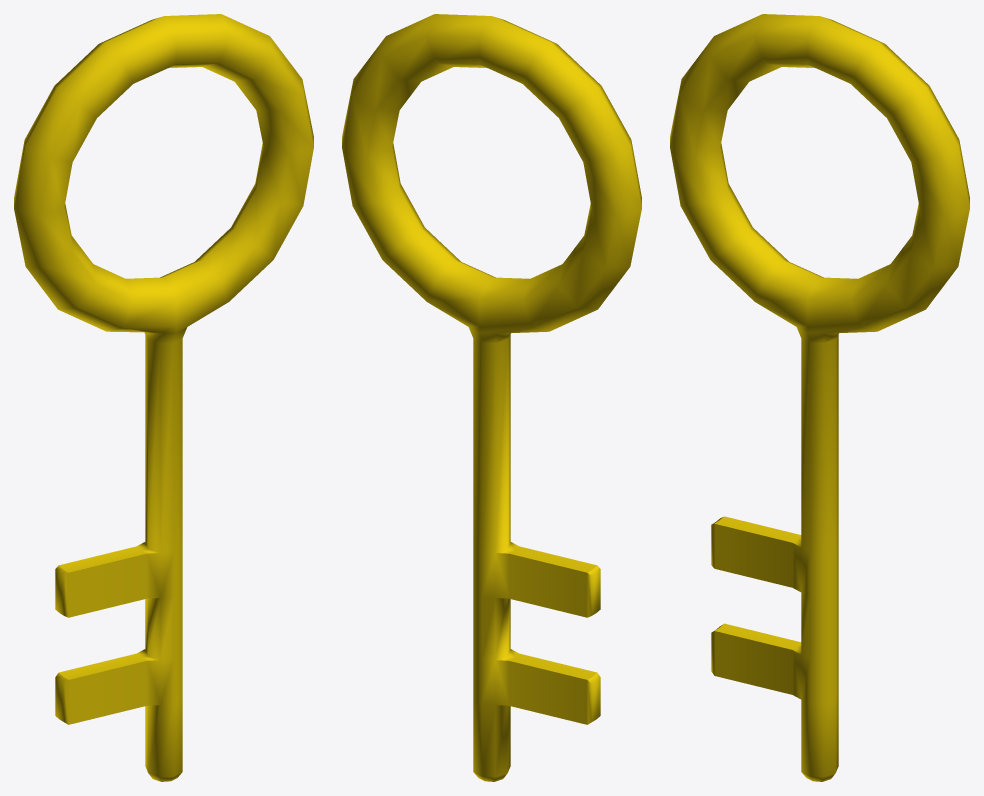
File: key.fbx
The picture shows the model from 3 angles, left to right: view 1: azimuth 30°, elevation 25°; view 2: azimuth 150°, elevation 25°; view 3: azimuth 330°, elevation 25°; orthographic projection.
Visible parts, largest first — view 1: key1; view 2: key1; view 3: key1.
Part boxes in pixels (left/top/right/bottom): key1: left=14, top=14, right=313, bottom=781; key1: left=342, top=14, right=641, bottom=781; key1: left=670, top=14, right=969, bottom=781.
Size of the model in its own units: 78.31 by 191 by 11.3.
